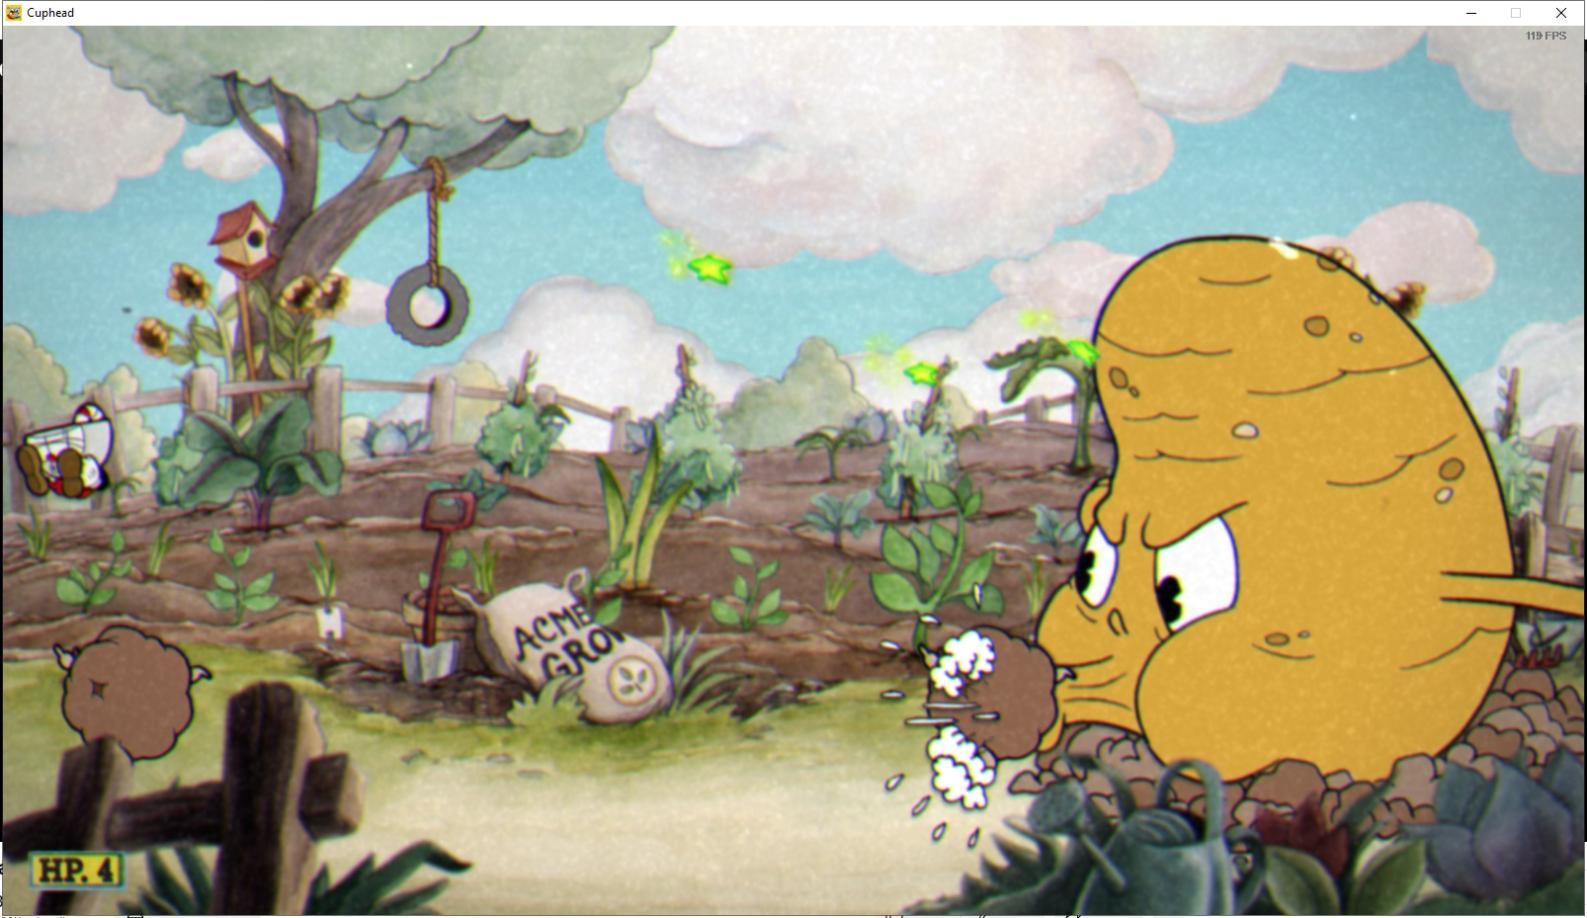dirt: (54, 606, 213, 771), (921, 619, 1059, 780)
hp4: (89, 850, 124, 893)
player: (15, 399, 137, 519)
potato_boss: (1033, 231, 1534, 776)
